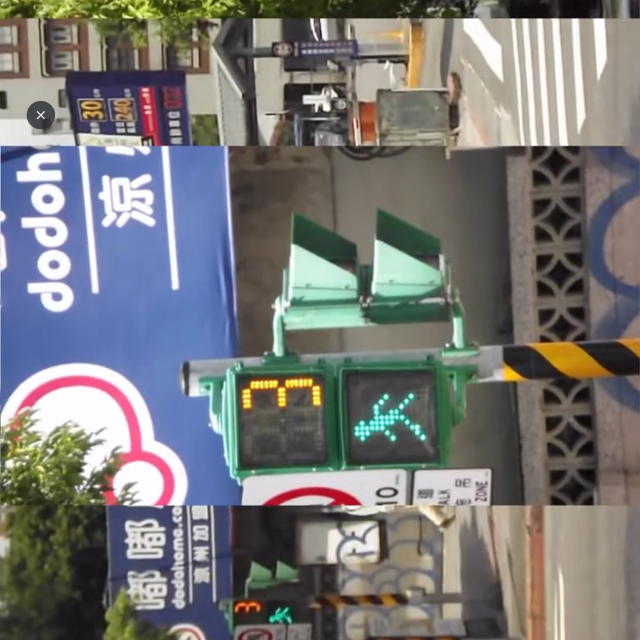green_light: (227, 367, 447, 457), (231, 601, 305, 623)
